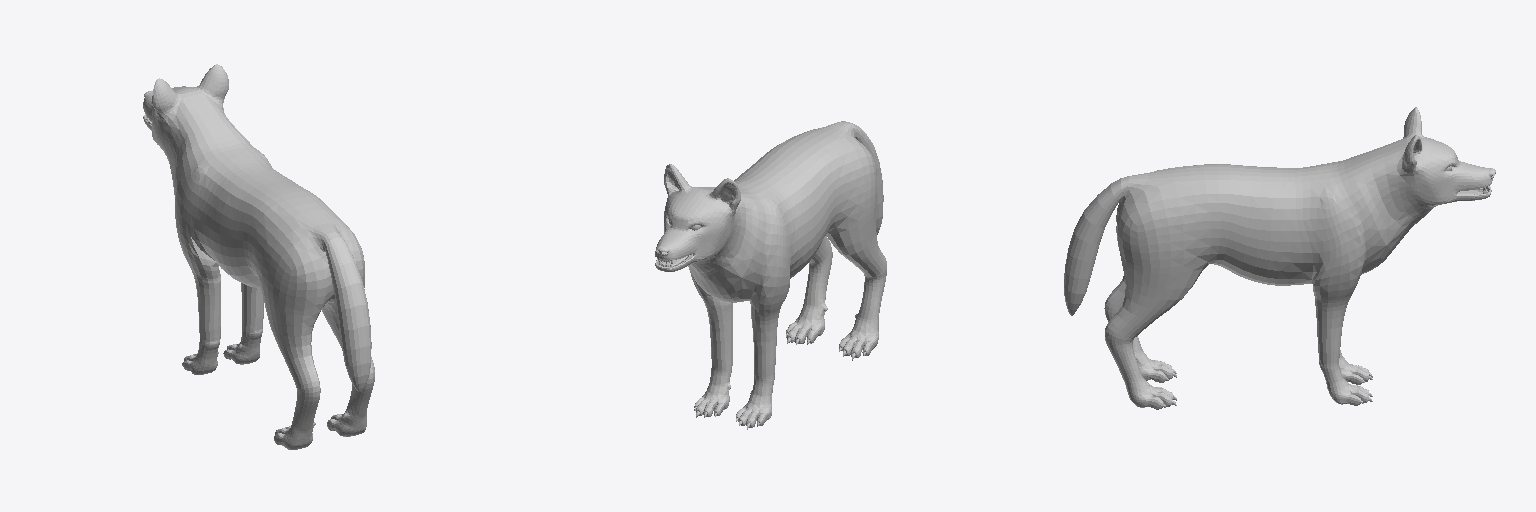
Rendered from wolf.obj.
3 renders of one model, left to right at view 1: azimuth 30°, elevation 25°; view 2: azimuth 150°, elevation 25°; view 3: azimuth 270°, elevation 25°, orthographic.
Visible parts, largest first — view 1: Wolf_Cube.001; view 2: Wolf_Cube.001; view 3: Wolf_Cube.001.
Part boxes in pixels (left/top/right/bottom): Wolf_Cube.001: left=143, top=64, right=374, bottom=449; Wolf_Cube.001: left=655, top=121, right=886, bottom=429; Wolf_Cube.001: left=1064, top=107, right=1495, bottom=409.
Size of the model in its own units: 2.16 by 6.08 by 8.85.